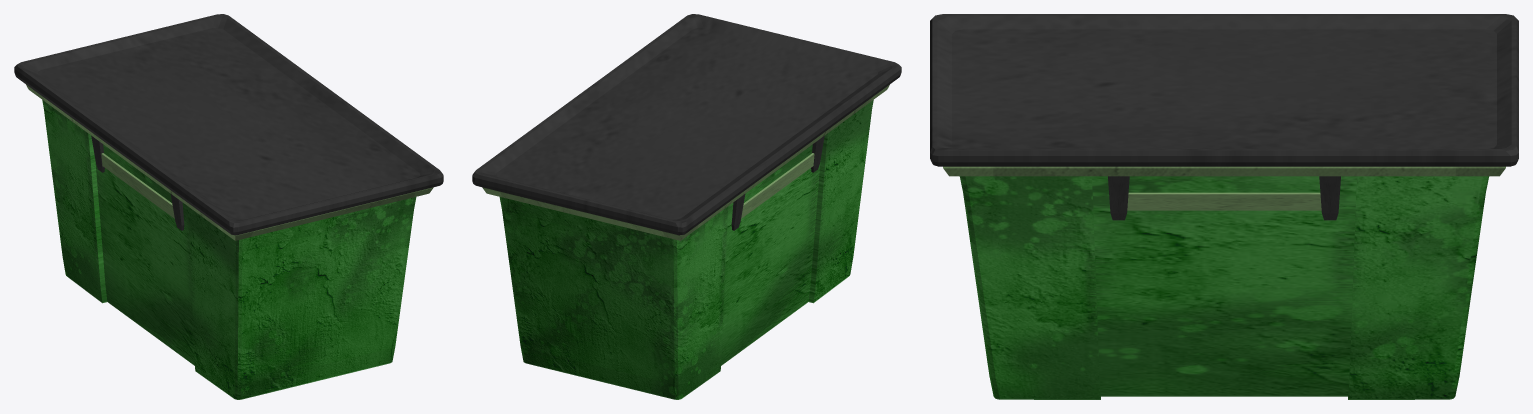
The model's file is 보관상자2.fbx.
The picture shows the model from 3 angles, left to right: view 1: azimuth 30°, elevation 25°; view 2: azimuth 150°, elevation 25°; view 3: azimuth 270°, elevation 25°; orthographic projection. The views are drawn at different scales.
Visible parts, largest first — view 1: Cube, Cube.002, Cube.001, Cube.004, Cube.003; view 2: Cube, Cube.002, Cube.001, Cube.004, Cube.003; view 3: Cube, Cube.002, Cube.001, Cube.004, Cube.003.
Part boxes in pixels (x1,y1,x2,y2): Cube: [42, 100, 416, 399]; Cube.002: [14, 14, 443, 235]; Cube.001: [26, 84, 433, 240]; Cube.004: [101, 153, 174, 218]; Cube.003: [91, 136, 184, 230]; Cube: [499, 100, 873, 399]; Cube.002: [472, 14, 901, 235]; Cube.001: [482, 84, 889, 240]; Cube.004: [741, 153, 814, 218]; Cube.003: [731, 136, 824, 230]; Cube: [959, 176, 1489, 399]; Cube.002: [930, 14, 1518, 166]; Cube.001: [943, 166, 1505, 176]; Cube.004: [1127, 192, 1321, 210]; Cube.003: [1108, 176, 1340, 220].
Bounding box in the file's own units: 297 × 265 × 532.
3 materials, 3 textured.
